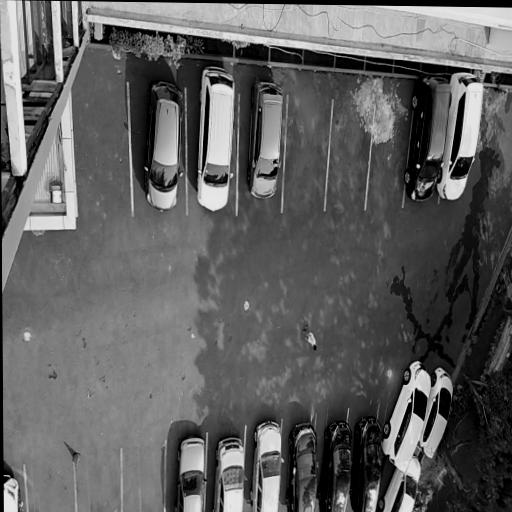Car: (380, 357, 435, 480), (438, 70, 487, 208), (194, 60, 236, 218), (404, 74, 451, 208), (143, 79, 184, 218), (246, 78, 288, 203), (416, 363, 457, 466), (317, 416, 354, 512), (285, 422, 320, 512), (351, 415, 383, 512), (249, 421, 283, 512), (172, 433, 207, 512), (378, 453, 424, 512), (212, 434, 246, 512), (3, 470, 24, 512)
Space Available: (79, 82, 132, 220), (282, 98, 333, 214), (326, 100, 376, 212), (365, 108, 413, 213), (122, 442, 166, 512), (73, 451, 120, 512), (24, 462, 74, 512)
